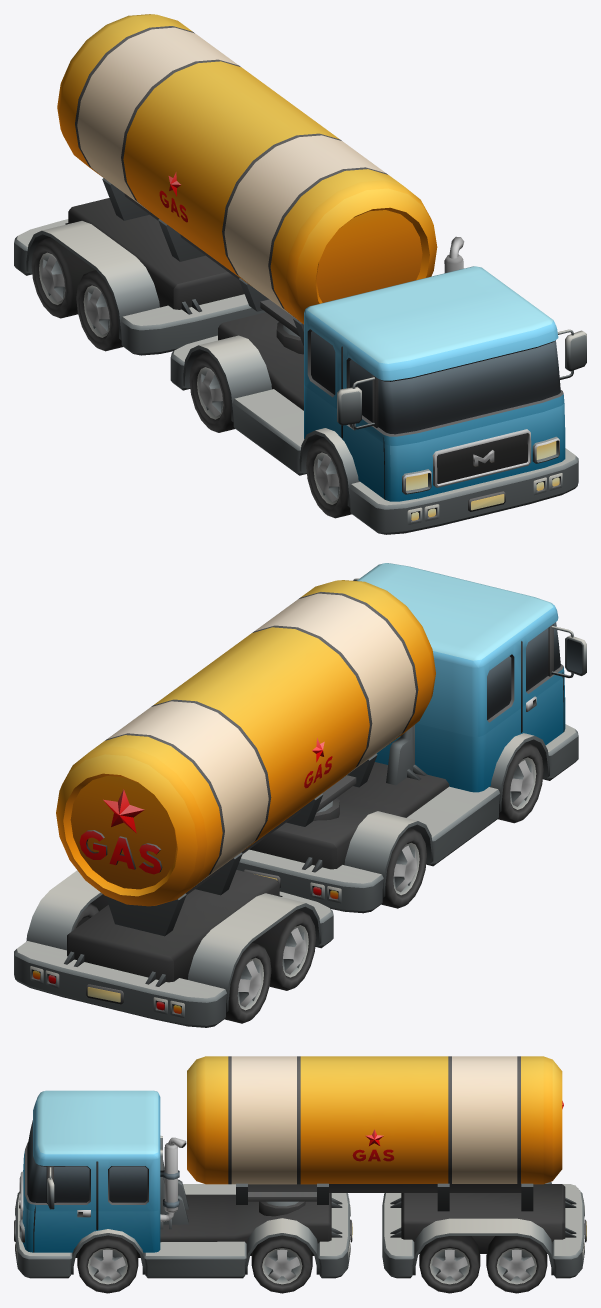
The model's file is Car_11B.fbx.
3 renders of one model, top to bottom at view 1: azimuth 30°, elevation 25°; view 2: azimuth 150°, elevation 25°; view 3: azimuth 270°, elevation 25°, orthographic. The views are drawn at different scales.
Visible parts, largest first — view 1: Car_11B_Cistern, Car_11B, Car_11B_Cistern_Wheel_R.R, Car_11B_Cistern_Wheel_F.R, Car_11B_Wheel_R.R, Car_11B_Wheel_F.R; view 2: Car_11B_Cistern, Car_11B, Car_11B_Cistern_Wheel_F.R, Car_11B_Cistern_Wheel_R.R, Car_11B_Wheel_F.R, Car_11B_Wheel_R.R; view 3: Car_11B_Cistern, Car_11B, Car_11B_Cistern_Wheel_R.L, Car_11B_Cistern_Wheel_F.L, Car_11B_Wheel_R.L, Car_11B_Wheel_F.L.
Boxes of the visible parts, box(x1,y1,x2,y2) form: Car_11B_Cistern: box(14, 14, 437, 355); Car_11B: box(170, 236, 586, 534); Car_11B_Cistern_Wheel_R.R: box(31, 237, 95, 318); Car_11B_Cistern_Wheel_F.R: box(76, 270, 122, 351); Car_11B_Wheel_R.R: box(189, 352, 234, 432); Car_11B_Wheel_F.R: box(306, 437, 351, 518); Car_11B_Cistern: box(14, 580, 435, 1027); Car_11B: box(236, 563, 586, 913); Car_11B_Cistern_Wheel_F.R: box(252, 910, 316, 990); Car_11B_Cistern_Wheel_R.R: box(224, 942, 271, 1023); Car_11B_Wheel_F.R: box(498, 742, 543, 823); Car_11B_Wheel_R.R: box(381, 828, 426, 908); Car_11B_Cistern: box(187, 1056, 586, 1278); Car_11B: box(14, 1090, 352, 1278); Car_11B_Cistern_Wheel_R.L: box(486, 1236, 547, 1293); Car_11B_Cistern_Wheel_F.L: box(419, 1236, 480, 1293); Car_11B_Wheel_R.L: box(251, 1235, 312, 1293); Car_11B_Wheel_F.L: box(77, 1235, 138, 1293).
Bounding box in the file's own units: 384 × 387 × 1027.
